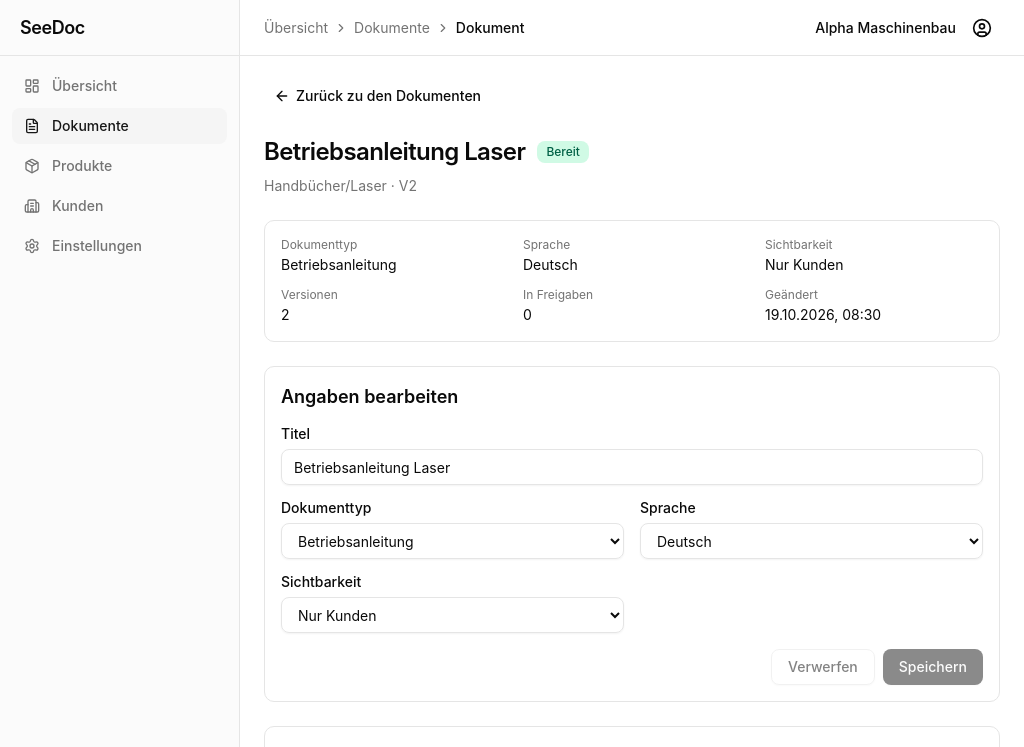
Scenario: DocumentDetailPage – details form › shows a language taken in the language group under the field and focuses it
The width and height of the screenshot is (1024, 747).
Select "Englisch" in the dropdown labelled "Sprache". click: (812, 541)
box: [640,523,983,559]
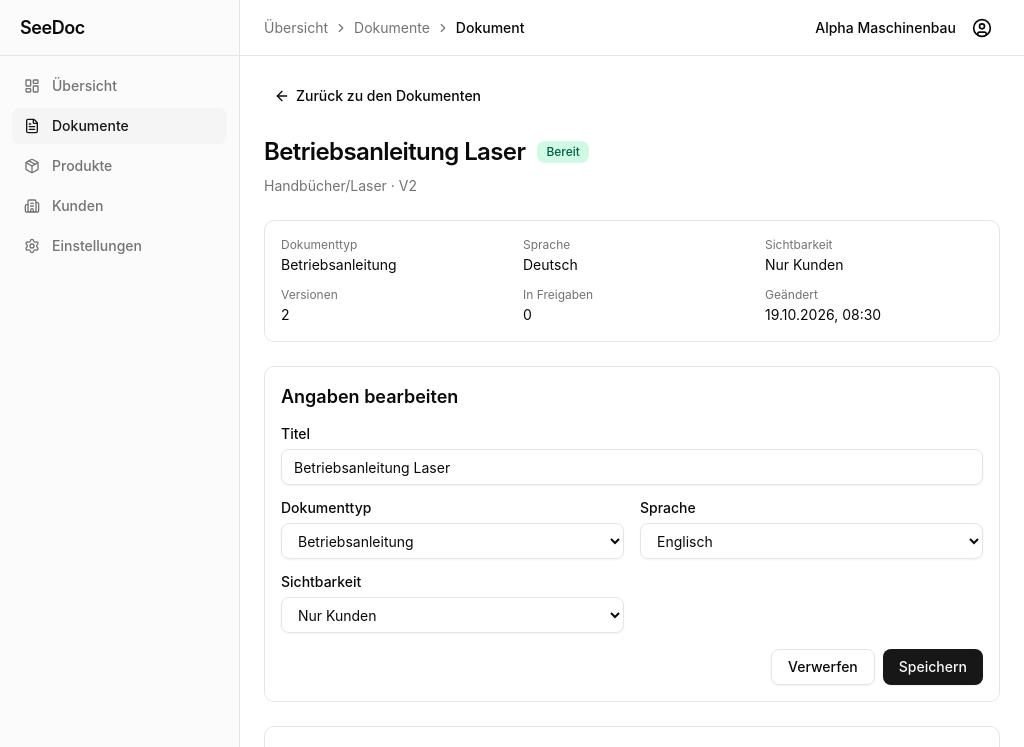
Click the button "Speichern". click: click(933, 667)
box: [883,649,983,685]
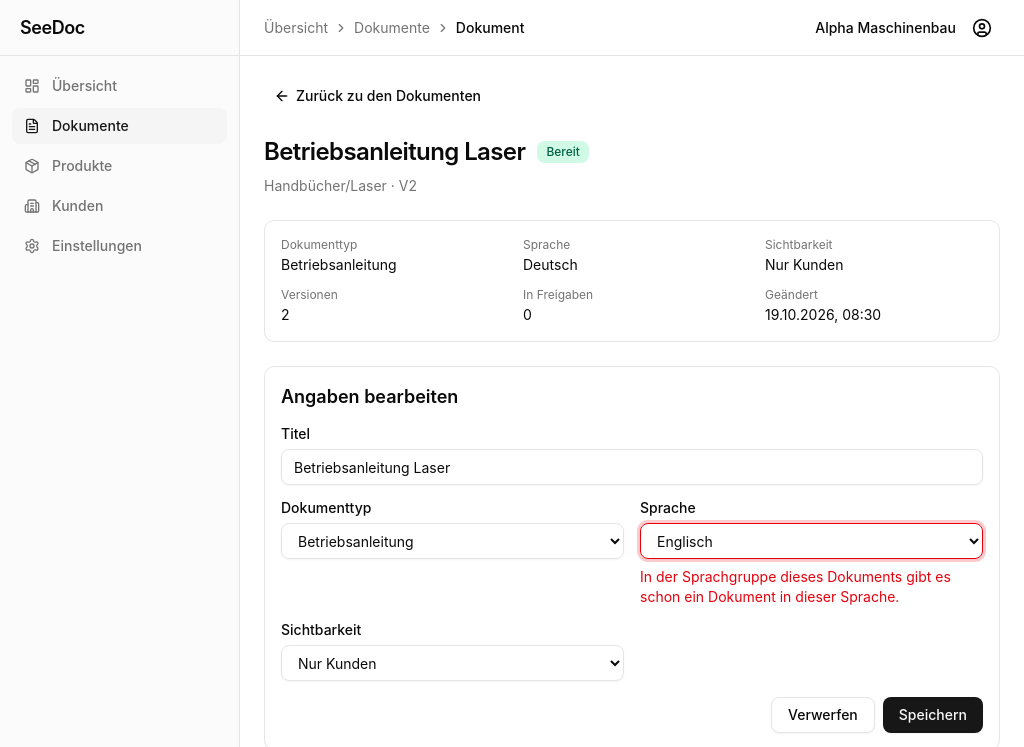
Check: the text "In der Sprachgruppe dieses Dokuments gibt es schon ein Dokument in dieser Sprache." is shown, box [640,568,951,605]
